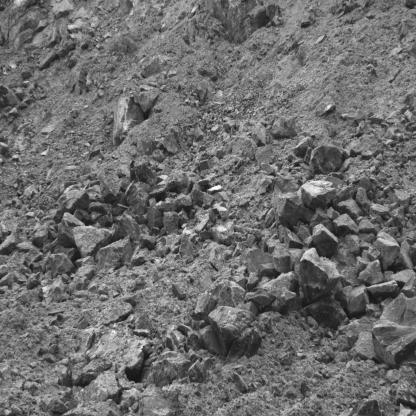stone: (208, 306, 259, 360), (298, 283, 347, 330), (300, 249, 341, 302), (372, 318, 416, 365), (258, 271, 301, 314), (227, 321, 266, 362), (113, 96, 145, 145), (73, 226, 116, 262), (95, 237, 133, 274), (380, 292, 416, 328), (298, 180, 337, 211), (107, 209, 141, 242), (125, 181, 151, 224), (209, 281, 245, 310), (312, 145, 344, 176), (272, 179, 296, 219), (58, 212, 85, 247), (130, 163, 163, 190), (58, 185, 89, 213), (150, 172, 186, 196), (242, 247, 274, 274), (313, 224, 339, 257), (374, 237, 399, 271), (68, 265, 97, 294), (278, 196, 304, 228), (346, 283, 370, 316), (243, 287, 277, 310), (397, 366, 416, 407), (48, 253, 76, 278), (348, 399, 387, 416), (367, 279, 400, 299), (100, 174, 122, 203), (358, 260, 384, 284), (271, 116, 299, 137), (335, 184, 360, 207), (272, 244, 291, 273), (200, 327, 219, 356), (213, 219, 234, 245), (333, 214, 358, 235), (255, 145, 276, 168), (0, 231, 20, 255), (309, 211, 334, 230), (134, 313, 152, 339), (398, 240, 414, 269), (251, 173, 273, 194), (283, 226, 303, 249), (338, 199, 362, 218), (191, 188, 214, 207), (163, 211, 180, 235), (147, 205, 163, 230), (341, 266, 361, 286), (391, 269, 416, 285), (160, 134, 181, 153), (31, 225, 49, 247), (208, 206, 231, 223), (178, 233, 195, 256), (336, 285, 352, 309), (195, 291, 211, 315), (390, 189, 410, 208), (356, 250, 371, 275), (295, 137, 314, 156), (24, 246, 42, 266), (358, 188, 373, 211), (242, 138, 258, 159), (344, 234, 360, 254), (315, 102, 336, 117), (403, 273, 416, 297), (165, 233, 181, 252), (370, 202, 390, 217), (246, 270, 260, 291), (391, 206, 405, 227), (175, 193, 193, 209), (252, 124, 265, 146), (172, 281, 187, 300), (259, 264, 278, 279), (207, 249, 221, 269), (171, 330, 184, 351), (186, 332, 201, 350), (139, 234, 156, 249), (75, 256, 96, 268), (89, 203, 113, 213), (97, 213, 114, 227), (359, 219, 376, 233), (200, 273, 213, 291), (297, 225, 311, 240), (0, 272, 14, 287), (326, 205, 339, 221), (232, 275, 246, 289), (75, 210, 90, 223), (368, 246, 381, 260), (353, 109, 365, 124), (243, 302, 256, 315), (199, 158, 213, 170), (265, 240, 280, 251), (266, 208, 275, 226), (180, 209, 190, 225), (214, 191, 228, 202), (152, 149, 164, 161), (90, 211, 102, 223), (200, 231, 213, 242), (261, 163, 274, 174), (194, 127, 204, 141), (222, 143, 232, 157), (222, 120, 236, 129), (278, 226, 285, 242), (384, 128, 394, 139), (303, 236, 313, 247), (0, 265, 9, 275)
